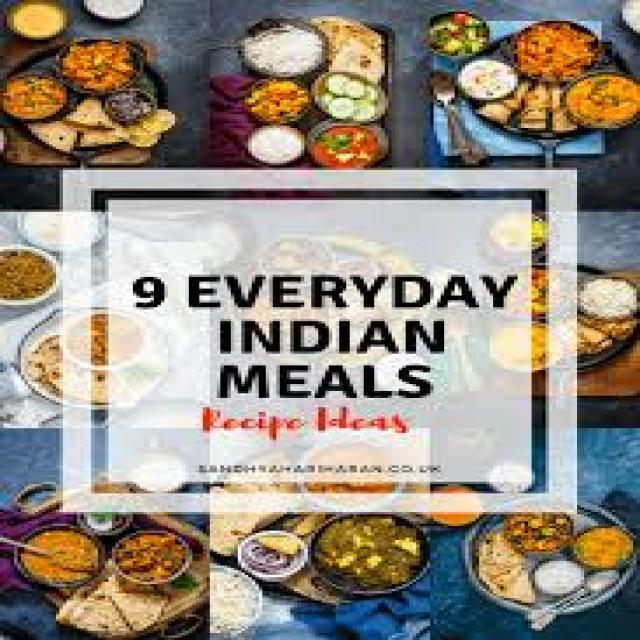curd: (78, 2, 148, 23)
dal: (479, 317, 562, 374), (567, 70, 640, 130), (567, 525, 634, 570), (180, 222, 243, 269), (6, 1, 73, 40)
papad: (57, 580, 180, 636), (466, 533, 537, 603)
raita: (122, 448, 192, 491), (454, 57, 517, 100), (76, 0, 149, 23)
rice: (237, 23, 330, 78), (211, 568, 261, 634)
roti: (466, 537, 535, 600), (324, 27, 392, 84)
veg-fry: (505, 21, 607, 82), (483, 509, 584, 557), (566, 71, 640, 130), (418, 11, 498, 59), (113, 531, 196, 577)
